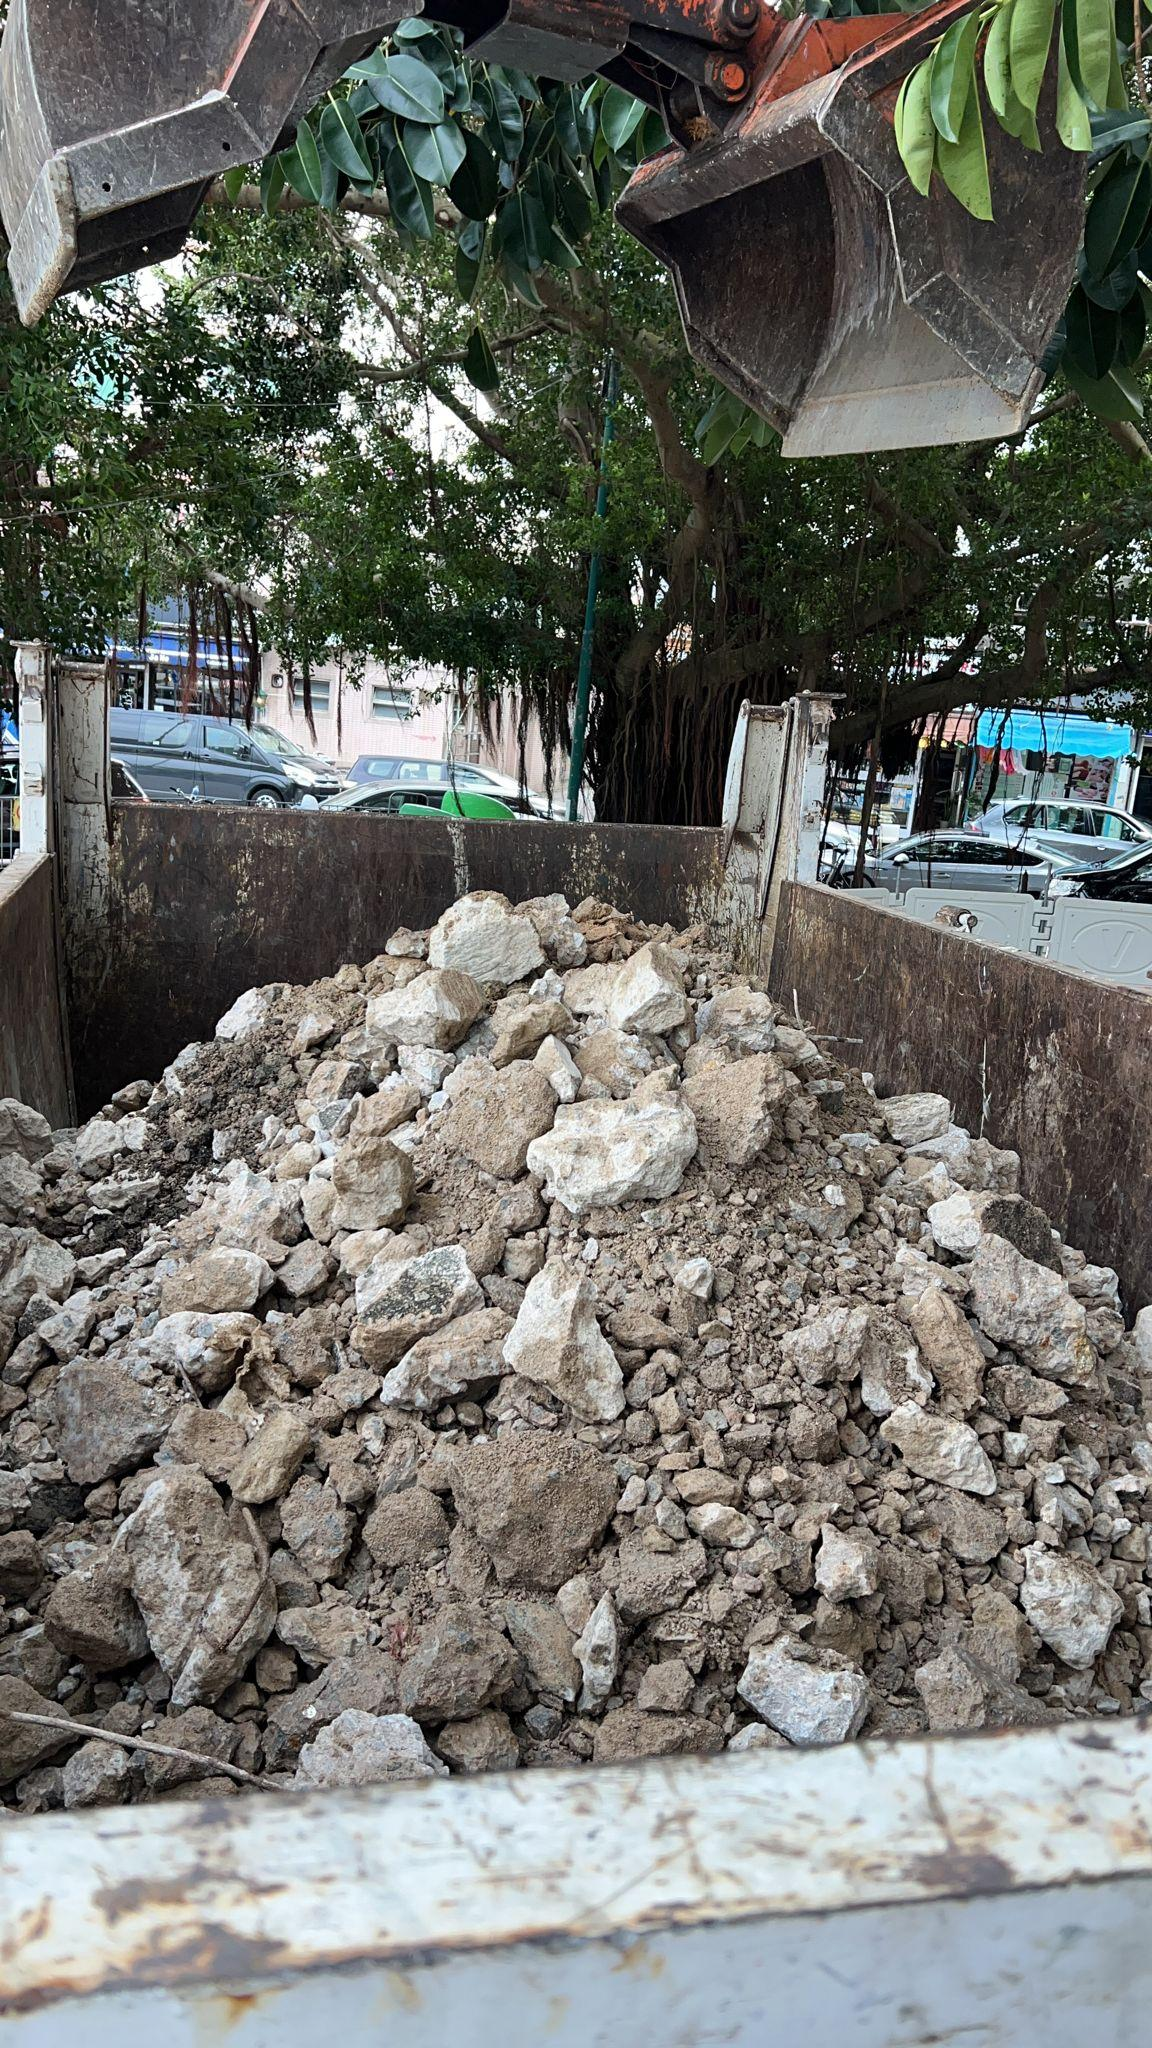dry: (10, 886, 1144, 1701)
